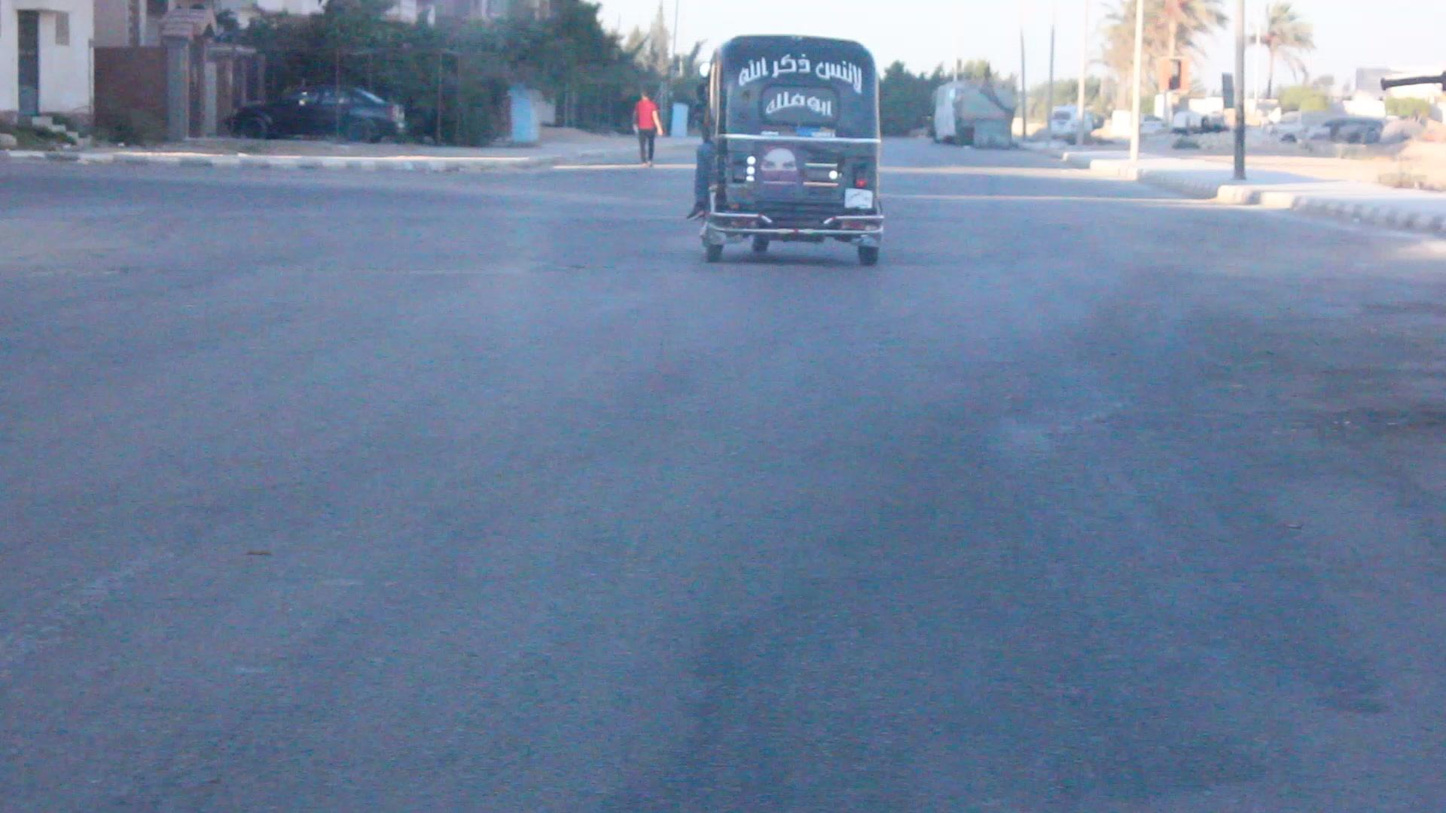Bump: (0, 184, 1446, 277)
